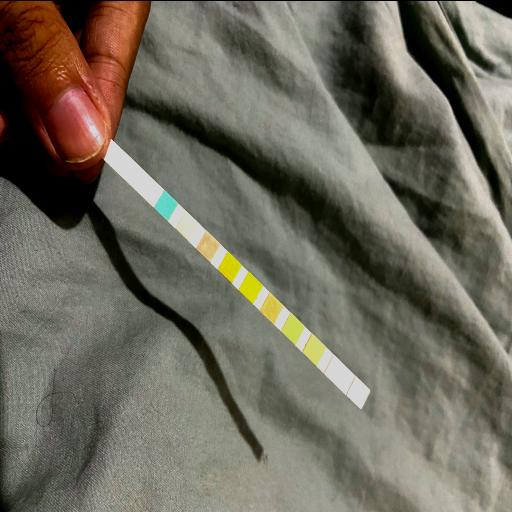Bilirubin: (182, 216, 192, 234)
Blood: (246, 278, 256, 296)
Glucose: (160, 196, 170, 212)
Ketone: (203, 236, 213, 254)
Leukocytes: (353, 384, 363, 402)
Nitrite: (330, 362, 342, 380)
Protein: (288, 320, 298, 338)
SpGravity: (224, 258, 234, 274)
Urobilinogen: (310, 340, 320, 358)
pH: (266, 300, 276, 316)
strip: (105, 141, 369, 407)
